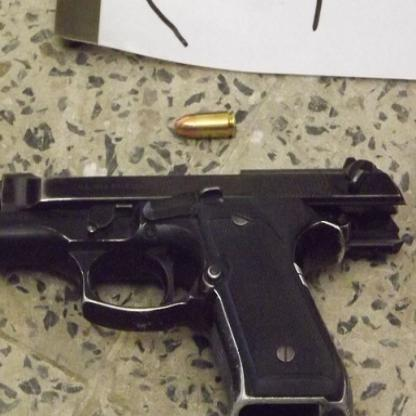gun: (0, 155, 407, 415)
